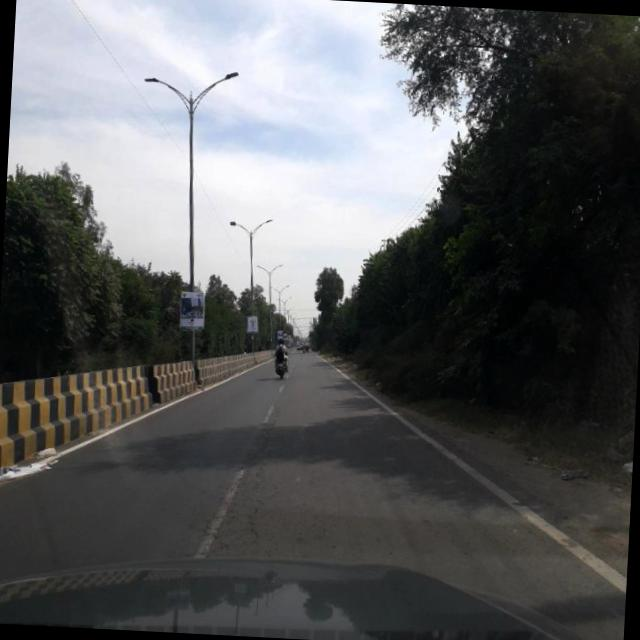crack: (206, 396, 284, 557)
